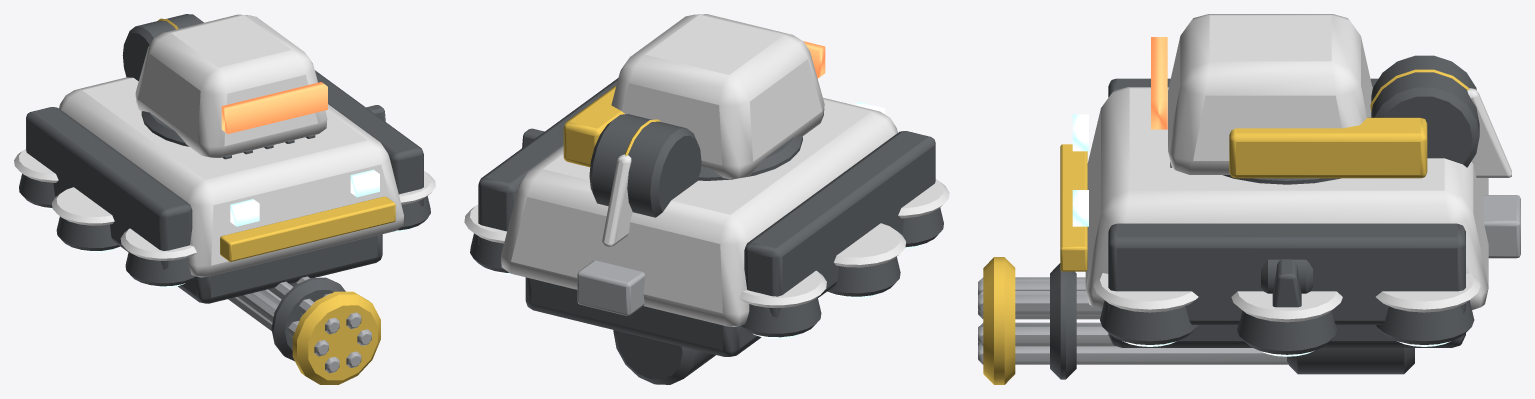
File: auto.glb
The picture shows the model from 3 angles, left to right: view 1: azimuth 30°, elevation 25°; view 2: azimuth 150°, elevation 25°; view 3: azimuth 270°, elevation 25°; orthographic projection. The views are drawn at different scales.
Visible parts, largest first — view 1: Hull, Turret, Barrel; view 2: Hull, Turret, Barrel; view 3: Hull, Turret, Barrel, LegLower, LegUpper.
Part boxes in pixels (x1,y1,x2,y2): Hull: (14, 14, 435, 303); Turret: (135, 14, 327, 157); Barrel: (228, 276, 380, 384); Hull: (464, 78, 949, 356); Turret: (563, 14, 825, 180); Barrel: (613, 330, 715, 384); Hull: (1060, 55, 1520, 356); Turret: (1151, 14, 1427, 184); Barrel: (978, 257, 1414, 384); LegLower: (1272, 259, 1301, 307); LegUpper: (1261, 259, 1312, 293).
Size of the model in its own units: 0.724 by 0.5465 by 0.7895.
